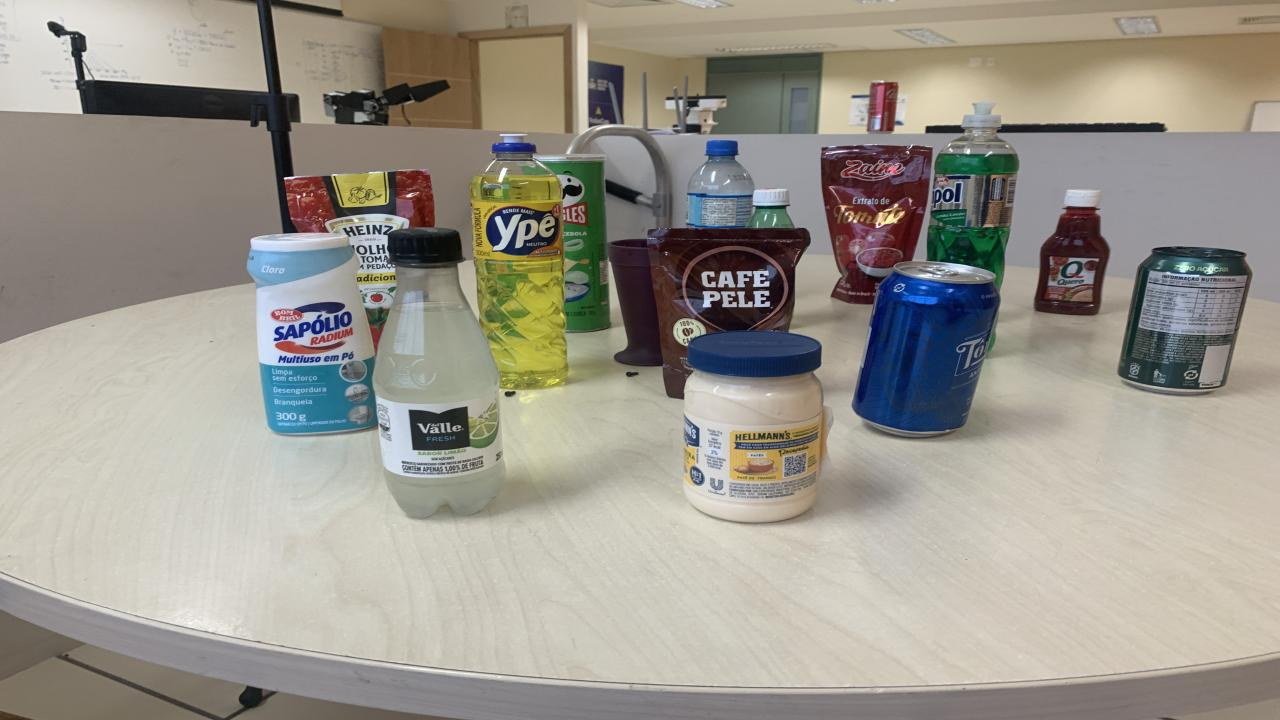Cleaner-Cleanup_Items: (248, 232, 375, 433)
Coffee-Pantry_Items: (648, 229, 810, 398)
Detergent-Cleanup_Items: (470, 135, 568, 390), (928, 103, 1020, 287)
Guarana-Drinks: (748, 188, 795, 229)
Guarana_Can-Drinks: (1118, 248, 1252, 394)
Ketchup-Pantry_Items: (1035, 189, 1110, 315)
Mayonnaise-Pantry_Items: (682, 330, 830, 521)
Pringles-Snacks: (538, 154, 610, 332)
Soda-Drinks: (372, 229, 505, 518)
Tomato_Sauce-Pantry_Items: (285, 171, 435, 345), (820, 144, 932, 304)
Tonic-Drinks: (852, 262, 1000, 437)
Water_Bottle-Drinks: (688, 141, 755, 229)
